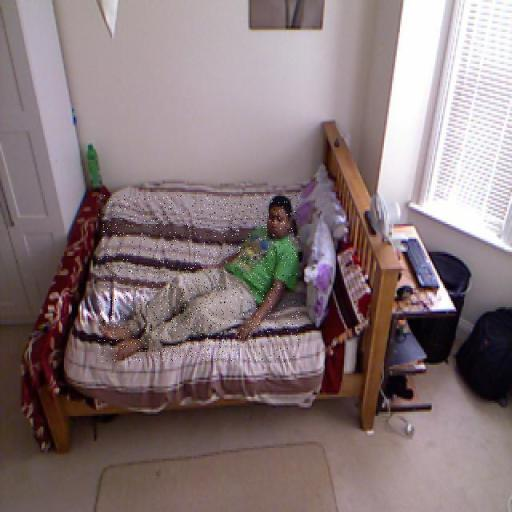Fall: (98, 195, 299, 363)
